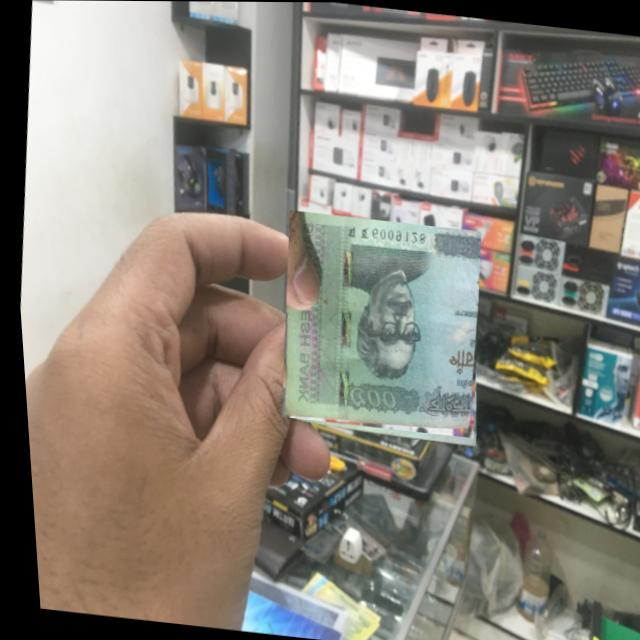Taka: (265, 209, 488, 437)
